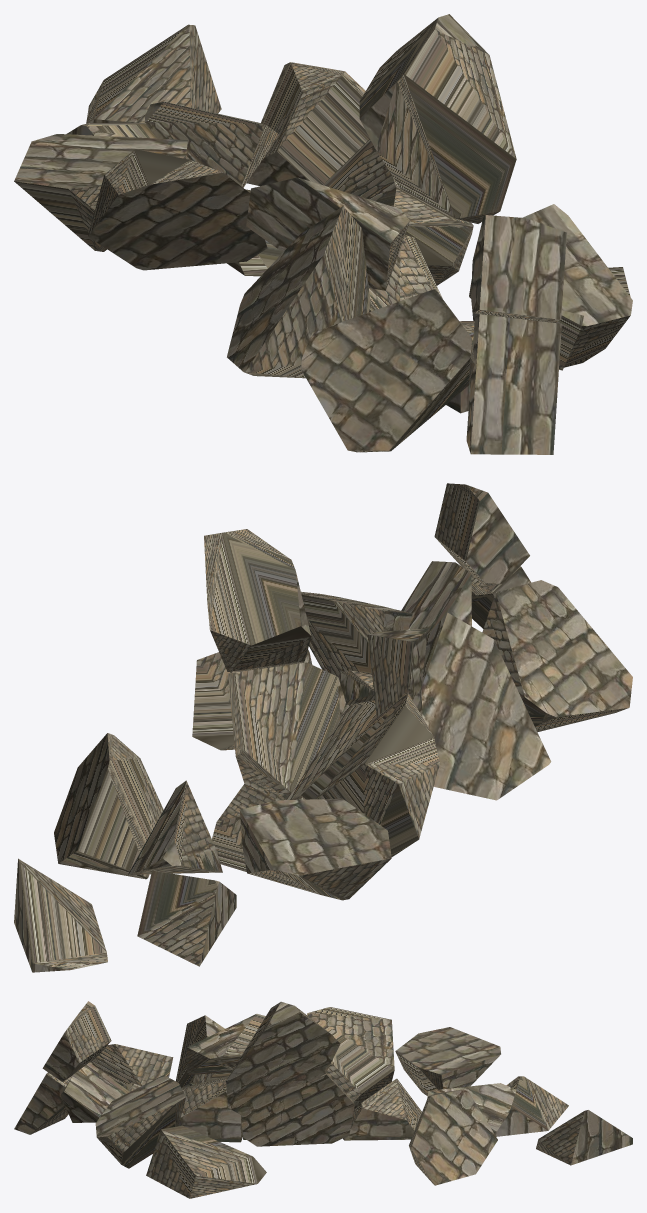
Rendered from BreakWallSmall_000013.obj.
3 renders of one model, top to bottom at view 1: azimuth 30°, elevation 25°; view 2: azimuth 150°, elevation 25°; view 3: azimuth 270°, elevation 25°, orthographic. The views are drawn at different scales.
Visible parts, largest first — view 1: Cube.002_cell.003_Cube.002_cell.002, Cube.002_cell.013_Cube.002_cell.012, Cube.002_cell.012_Cube.002_cell.011, Cube.002_cell.017_Cube.002_cell.016, Cube.002_cell.002_Cube.002_cell.001, Cube.002_cell.014_Cube.002_cell.013, Cube.002_cell.007_Cube.002_cell.006, Cube.002_cell.010_Cube.002_cell.009, Cube.002_cell.009_Cube.002_cell.008, Cube.002_cell.005_Cube.002_cell.004, Cube.002_cell.004_Cube.002_cell.003, Cube.002_cell.015_Cube.002_cell.014 (+5 smaller); view 2: Cube.002_cell.017_Cube.002_cell.016, Cube.002_cell.013_Cube.002_cell.012, Cube.002_cell.003_Cube.002_cell.002, Cube.002_cell.010_Cube.002_cell.009, Cube.002_cell.015_Cube.002_cell.014, Cube.002_cell.012_Cube.002_cell.011, Cube.002_cell.014_Cube.002_cell.013, Cube.002_cell.005_Cube.002_cell.004, Cube.002_cell.018_Cube.002_cell.017, Cube.002_cell.007_Cube.002_cell.006, Cube.002_cell.004_Cube.002_cell.003, Cube.002_cell.001_Cube.002_cell.000 (+7 smaller); view 3: Cube.002_cell.003_Cube.002_cell.002, Cube.002_cell.014_Cube.002_cell.013, Cube.002_cell.015_Cube.002_cell.014, Cube.002_cell.016_Cube.002_cell.015, Cube.002_cell.012_Cube.002_cell.011, Cube.002_cell.004_Cube.002_cell.003, Cube.002_cell.010_Cube.002_cell.009, Cube.002_cell_Cube.002_cell.020, Cube.002_cell.005_Cube.002_cell.004, Cube.002_cell.008_Cube.002_cell.007, Cube.002_cell.007_Cube.002_cell.006, Cube.002_cell.009_Cube.002_cell.008 (+6 smaller).
Boxes of the visible parts, bbox=[...] form: Cube.002_cell.003_Cube.002_cell.002: bbox=[359, 14, 516, 223]; Cube.002_cell.013_Cube.002_cell.012: bbox=[301, 289, 474, 452]; Cube.002_cell.012_Cube.002_cell.011: bbox=[88, 149, 267, 270]; Cube.002_cell.017_Cube.002_cell.016: bbox=[227, 206, 370, 378]; Cube.002_cell.002_Cube.002_cell.001: bbox=[466, 314, 561, 454]; Cube.002_cell.014_Cube.002_cell.013: bbox=[247, 62, 369, 186]; Cube.002_cell.007_Cube.002_cell.006: bbox=[471, 215, 566, 322]; Cube.002_cell.010_Cube.002_cell.009: bbox=[14, 134, 187, 251]; Cube.002_cell.009_Cube.002_cell.008: bbox=[246, 177, 409, 290]; Cube.002_cell.005_Cube.002_cell.004: bbox=[86, 24, 221, 123]; Cube.002_cell.004_Cube.002_cell.003: bbox=[471, 204, 632, 367]; Cube.002_cell.015_Cube.002_cell.014: bbox=[324, 139, 473, 285]; Cube.002_cell.017_Cube.002_cell.016: bbox=[421, 612, 551, 800]; Cube.002_cell.013_Cube.002_cell.012: bbox=[482, 580, 632, 732]; Cube.002_cell.003_Cube.002_cell.002: bbox=[204, 529, 311, 671]; Cube.002_cell.010_Cube.002_cell.009: bbox=[239, 798, 391, 900]; Cube.002_cell.015_Cube.002_cell.014: bbox=[228, 662, 345, 798]; Cube.002_cell.012_Cube.002_cell.011: bbox=[301, 693, 439, 856]; Cube.002_cell.014_Cube.002_cell.013: bbox=[54, 733, 163, 879]; Cube.002_cell.005_Cube.002_cell.004: bbox=[14, 858, 107, 972]; Cube.002_cell.018_Cube.002_cell.017: bbox=[137, 870, 236, 966]; Cube.002_cell.007_Cube.002_cell.006: bbox=[434, 483, 529, 586]; Cube.002_cell.004_Cube.002_cell.003: bbox=[301, 591, 412, 677]; Cube.002_cell.001_Cube.002_cell.000: bbox=[128, 780, 222, 874]; Cube.002_cell.003_Cube.002_cell.002: bbox=[226, 1001, 340, 1115]; Cube.002_cell.014_Cube.002_cell.013: bbox=[409, 1089, 497, 1185]; Cube.002_cell.015_Cube.002_cell.014: bbox=[240, 1073, 354, 1146]; Cube.002_cell.016_Cube.002_cell.015: bbox=[146, 1125, 266, 1198]; Cube.002_cell.012_Cube.002_cell.011: bbox=[307, 1007, 394, 1108]; Cube.002_cell.004_Cube.002_cell.003: bbox=[95, 1075, 185, 1168]; Cube.002_cell.010_Cube.002_cell.009: bbox=[395, 1027, 500, 1095]; Cube.002_cell_Cube.002_cell.020: bbox=[343, 1078, 421, 1140]; Cube.002_cell.005_Cube.002_cell.004: bbox=[536, 1110, 632, 1165]; Cube.002_cell.008_Cube.002_cell.007: bbox=[178, 1075, 242, 1142]; Cube.002_cell.007_Cube.002_cell.006: bbox=[42, 1001, 111, 1081]; Cube.002_cell.009_Cube.002_cell.008: bbox=[187, 1014, 265, 1074].
Bounding box in the file's own units: 22.89 × 13.4 × 47.25.
Materials: 2 (2 with a texture image).
